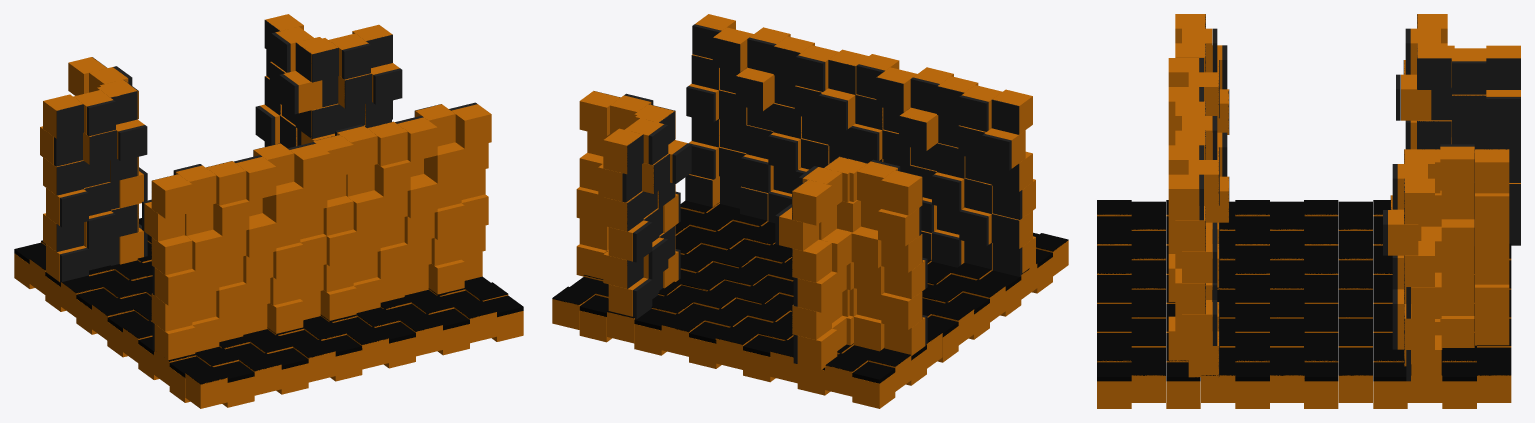
File: Tcorridor-plateforme.fbx
3 renders of one model, left to right at view 1: azimuth 30°, elevation 25°; view 2: azimuth 150°, elevation 25°; view 3: azimuth 270°, elevation 25°, orthographic. The views are drawn at different scales.
Parts seen in each view (by area): view 1: Cube_2, Cube_5, Cube_5_2_2, Cube_12, Cube_10, Cube_10_2_2, Cube_18, Cube_1_2_2, Cube_3_2_2, Cube_3, Cube_1, Cube_30 (+130 smaller); view 2: Cube_1_4, Cube_2_4, Cube_12_3, Cube_26_4, Cube_8_4, Cube_2_6, Cube_18_3, Cube_30_3, Cube_20_4, Cube_14_4, Cube_5_8, Cube_6_3 (+133 smaller); view 3: Cube_6_7, Cube_1_6, Cube_5_2_2, Cube_2_6, Cube_13_6, Cube_12_5, Cube_8_6, Cube_26_6, Cube_6_4, Cube_6_5, Cube_6_2_4, Cube_2_3_4 (+136 smaller).
Boxes of the visible parts, left/top/right/bottom form: Cube_2: left=151, top=174, right=192, bottom=218; Cube_5: left=290, top=143, right=330, bottom=187; Cube_5_2_2: left=451, top=104, right=491, bottom=148; Cube_12: left=151, top=235, right=192, bottom=275; Cube_10: left=262, top=181, right=303, bottom=222; Cube_10_2_2: left=424, top=142, right=464, bottom=183; Cube_18: left=154, top=268, right=195, bottom=305; Cube_1_2_2: left=367, top=121, right=407, bottom=166; Cube_3_2_2: left=397, top=117, right=437, bottom=161; Cube_3: left=236, top=156, right=276, bottom=201; Cube_1: left=206, top=161, right=246, bottom=205; Cube_30: left=154, top=324, right=195, bottom=361; Cube_1_4: left=881, top=170, right=922, bottom=215; Cube_2_4: left=792, top=180, right=831, bottom=225; Cube_12_3: left=792, top=239, right=831, bottom=282; Cube_26_4: left=881, top=292, right=922, bottom=329; Cube_8_4: left=878, top=208, right=919, bottom=246; Cube_2_6: left=579, top=91, right=620, bottom=135; Cube_18_3: left=797, top=271, right=837, bottom=312; Cube_30_3: left=797, top=328, right=837, bottom=369; Cube_20_4: left=884, top=260, right=925, bottom=298; Cube_14_4: left=881, top=234, right=922, bottom=272; Cube_5_8: left=852, top=372, right=895, bottom=408; Cube_6_3: left=779, top=207, right=818, bottom=250; Cube_6_7: left=1440, top=146, right=1474, bottom=190; Cube_1_6: left=1475, top=149, right=1509, bottom=193; Cube_5_2_2: left=1168, top=174, right=1198, bottom=220; Cube_2_6: left=1404, top=178, right=1434, bottom=224; Cube_13_6: left=1441, top=219, right=1474, bottom=258; Cube_12_5: left=1404, top=241, right=1434, bottom=286; Cube_8_6: left=1475, top=193, right=1509, bottom=227; Cube_26_6: left=1475, top=284, right=1509, bottom=318; Cube_6_4: left=1401, top=74, right=1431, bottom=120; Cube_6_5: left=1388, top=210, right=1418, bottom=255; Cube_6_2_4: left=1486, top=97, right=1520, bottom=130; Cube_2_3_4: left=1452, top=61, right=1486, bottom=94.
Size of the model in its own units: 2458 by 1407 by 2458.
